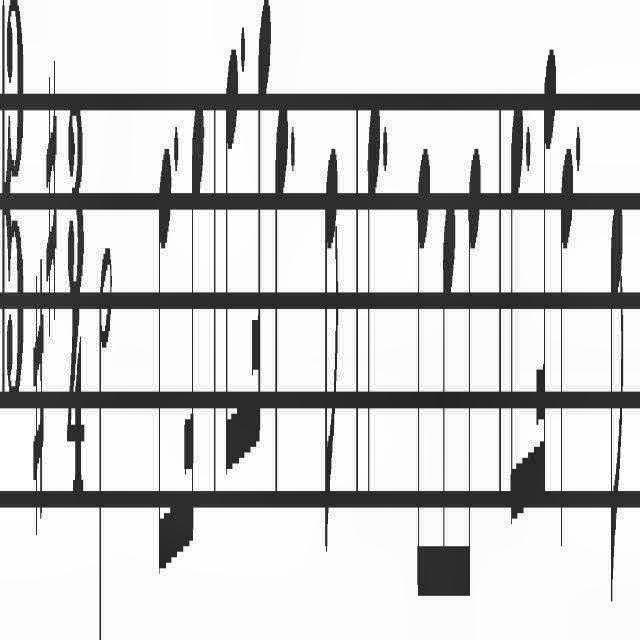Diez: (46, 62, 59, 342), (32, 258, 44, 552)
Eighth-note: (458, 138, 482, 610), (322, 142, 340, 580), (439, 193, 457, 619), (416, 133, 432, 602), (508, 83, 524, 540), (222, 41, 238, 497), (156, 141, 172, 595), (608, 178, 624, 614)
Half-note: (97, 243, 113, 640)
Quarter-note: (364, 84, 382, 504), (272, 86, 288, 506), (559, 148, 573, 552)
Sixteenth-note: (536, 38, 556, 574), (184, 85, 204, 570), (251, 0, 270, 496)
